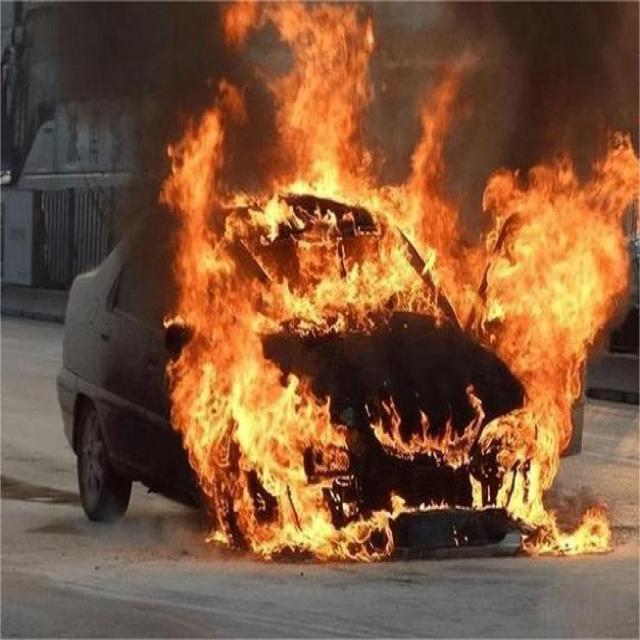Fire: (166, 0, 640, 315), (172, 319, 352, 556), (493, 317, 608, 554), (371, 387, 484, 467), (354, 492, 406, 564)
Smoke: (40, 0, 162, 238)
